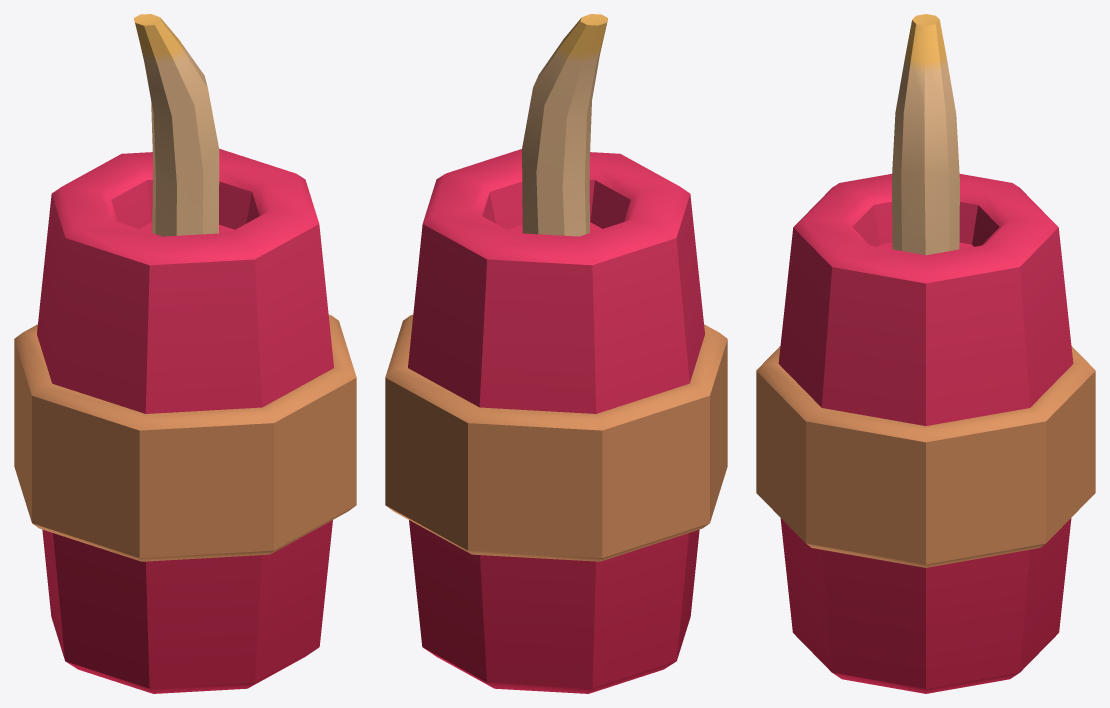
Rendered from Dynamite_single.fbx.
3 renders of one model, left to right at view 1: azimuth 30°, elevation 25°; view 2: azimuth 150°, elevation 25°; view 3: azimuth 270°, elevation 25°, orthographic. The views are drawn at different scales.
Visible parts, largest first — view 1: Dynamite_single; view 2: Dynamite_single; view 3: Dynamite_single.
Boxes of the visible parts, x1,y1,x2,y2 form: Dynamite_single: (14,14,356,693); Dynamite_single: (385,14,727,693); Dynamite_single: (756,14,1095,693).
Bounding box in the file's own units: 32.65 × 64.32 × 32.65.
Materials: 1 (1 with a texture image).
